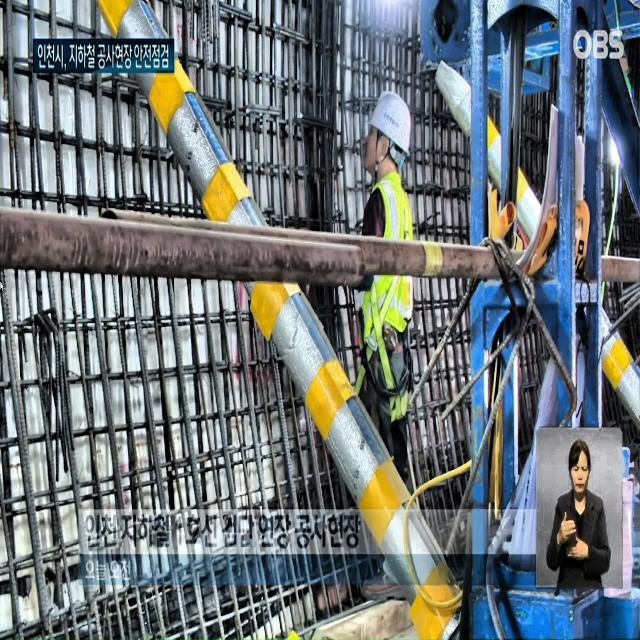safety_helmet: (364, 80, 415, 152)
safety_jacket: (361, 181, 425, 345)
